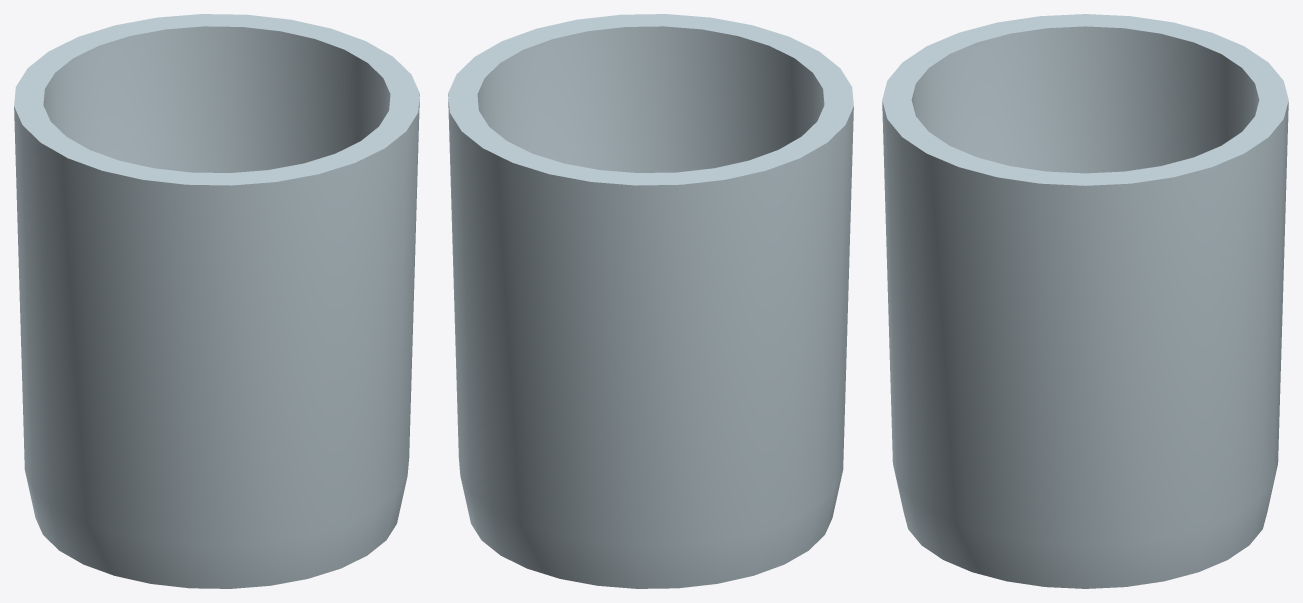
File: cocktail_whisky_rocks_tumbler.glb
3 views of the same model, side by side, from view 1: azimuth 30°, elevation 25°; view 2: azimuth 150°, elevation 25°; view 3: azimuth 270°, elevation 25° (orthographic).
Visible parts, largest first — view 1: cocktail_whisky_rocks_tumbler; view 2: cocktail_whisky_rocks_tumbler; view 3: cocktail_whisky_rocks_tumbler.
Boxes of the visible parts, left/top/right/bottom form: cocktail_whisky_rocks_tumbler: left=14, top=14, right=419, bottom=588; cocktail_whisky_rocks_tumbler: left=448, top=14, right=853, bottom=588; cocktail_whisky_rocks_tumbler: left=882, top=14, right=1288, bottom=588.
Bounding box in the file's own units: 0.076 × 0.085 × 0.076.
